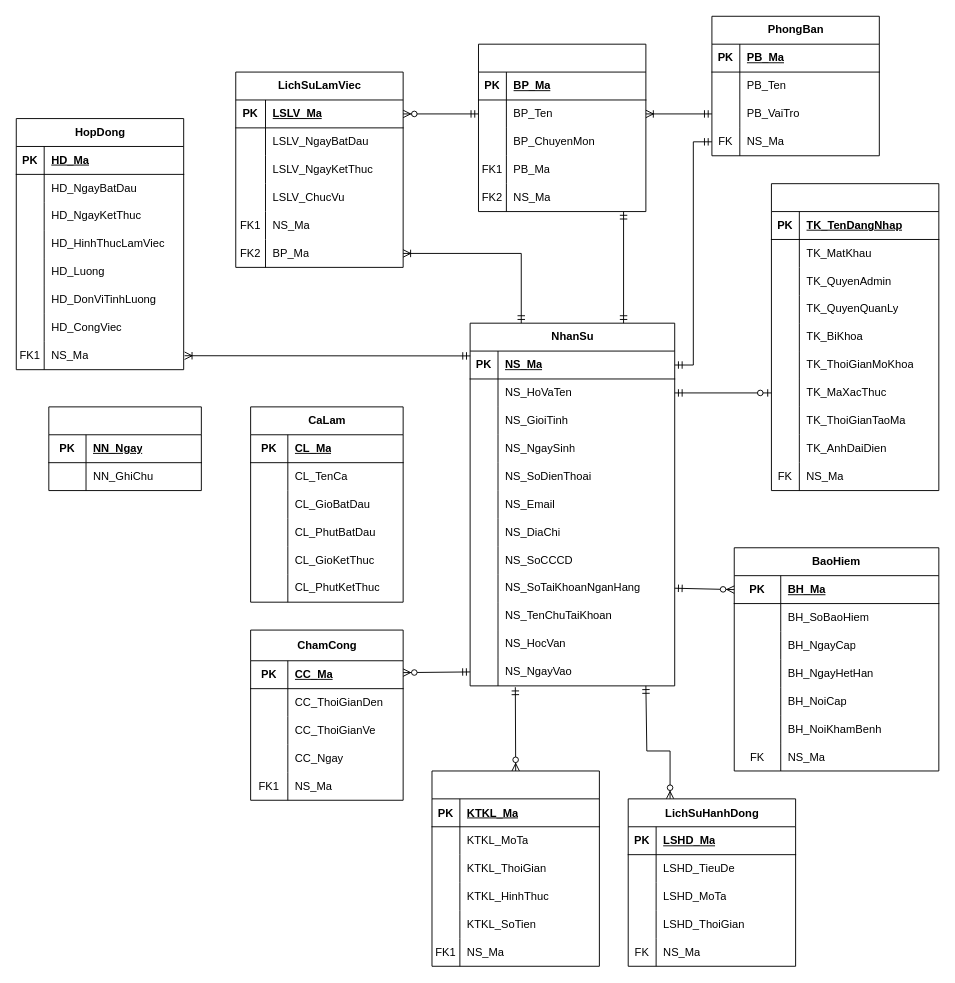
Some shapes in this 955 by 983 pixel diagram are drawn without their labels. Each missing label, with the box of its shape:
BoPhan: (478, 43, 646, 212)
KhenThuongKyLuat: (431, 770, 599, 966)
NgayNghi: (48, 406, 201, 491)
TaiKhoan: (771, 183, 939, 491)
